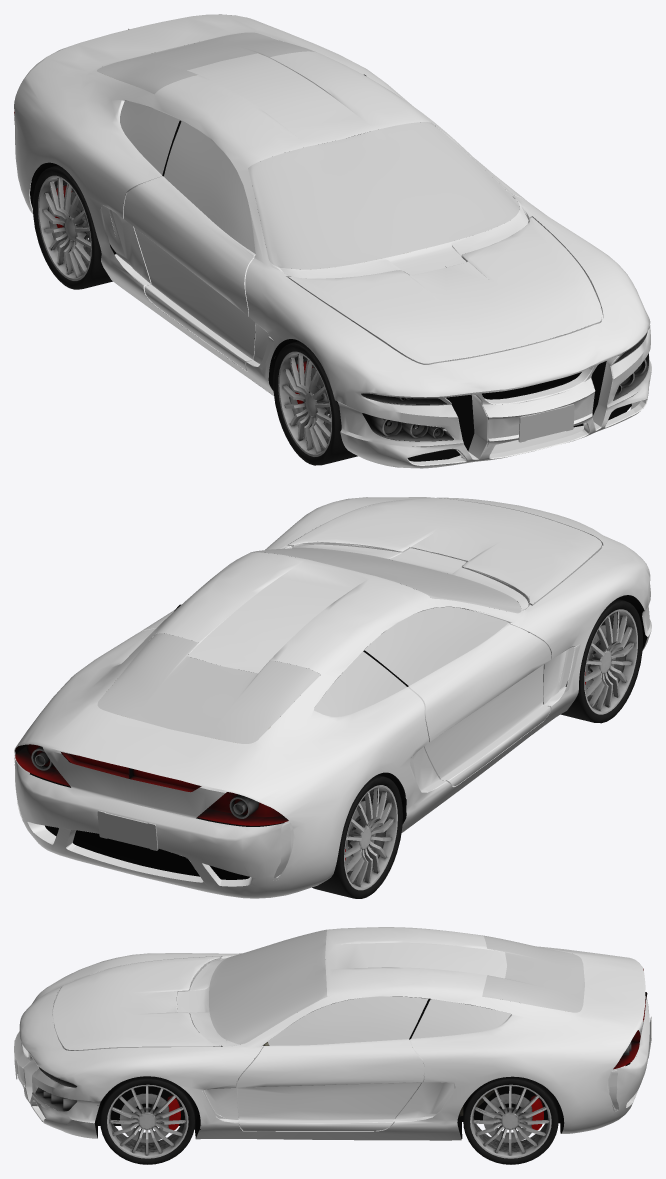
Rendered from TRAFFIC_014.fbx.
3 renders of one model, top to bottom at view 1: azimuth 30°, elevation 25°; view 2: azimuth 150°, elevation 25°; view 3: azimuth 270°, elevation 25°, orthographic. The views are drawn at different scales.
Visible parts, largest first — view 1: TRAFFIC_014 Body, TRAFFIC_014 Glass, TRAFFIC_014 WFR, TRAFFIC_014 WRR, TRAFFIC_014 Signs; view 2: TRAFFIC_014 Body, TRAFFIC_014 Glass, TRAFFIC_014 WRR, TRAFFIC_014 WFR, TRAFFIC_014 Signs; view 3: TRAFFIC_014 Body, TRAFFIC_014 Glass, TRAFFIC_014 WFL, TRAFFIC_014 WRL.
Boxes of the visible parts, x1,y1,x2,y2 form: TRAFFIC_014 Body: (14,14,651,468); TRAFFIC_014 Glass: (97,32,519,269); TRAFFIC_014 WFR: (273,341,357,465); TRAFFIC_014 WRR: (33,165,112,289); TRAFFIC_014 Signs: (518,404,574,442); TRAFFIC_014 Body: (14,497,651,898); TRAFFIC_014 Glass: (97,547,521,743); TRAFFIC_014 WRR: (312,774,402,898); TRAFFIC_014 WFR: (560,598,642,723); TRAFFIC_014 Signs: (97,810,158,850); TRAFFIC_014 Body: (14,927,649,1140); TRAFFIC_014 Glass: (209,929,584,1045); TRAFFIC_014 WFL: (100,1076,195,1164); TRAFFIC_014 WRL: (463,1076,558,1164).
Size of the model in its own units: 202 by 127 by 476.
